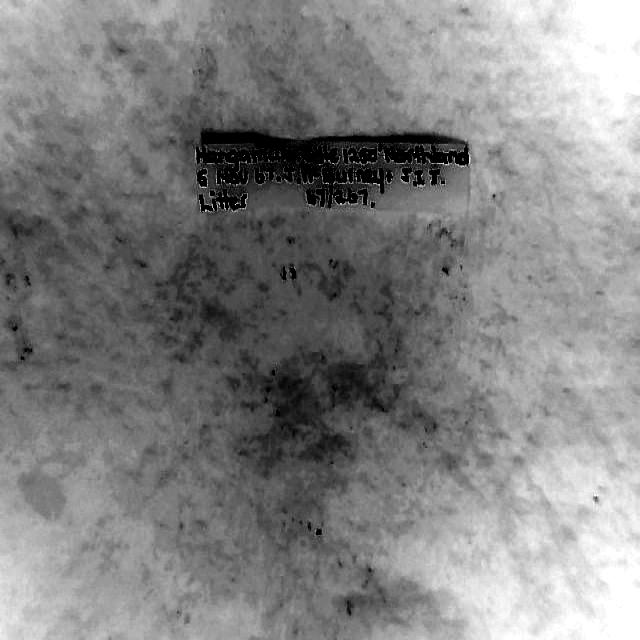hand_label: (195, 135, 470, 214)
